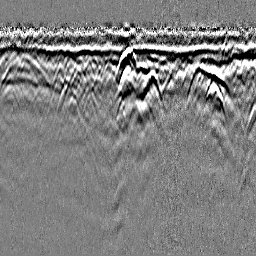cavity: (112, 44, 138, 78)
